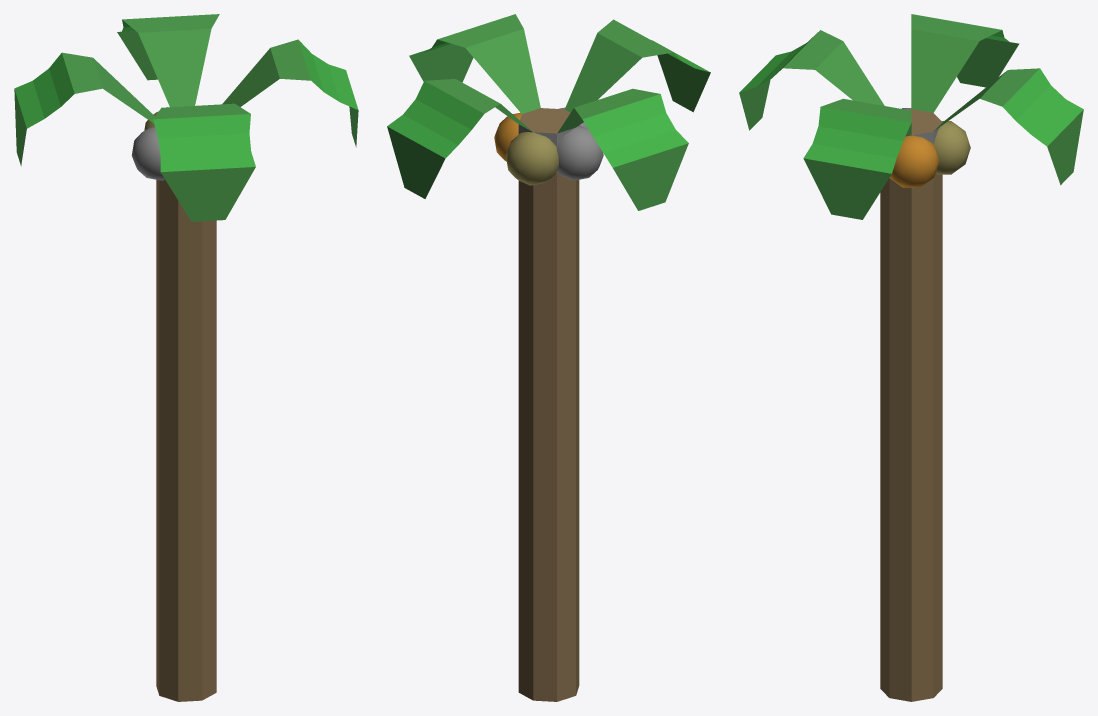
File: Goofn.fbx
3 views of the same model, side by side, from view 1: azimuth 30°, elevation 25°; view 2: azimuth 150°, elevation 25°; view 3: azimuth 270°, elevation 25° (orthographic).
Parts seen in each view (by area): view 1: Plane.005; view 2: Plane.005; view 3: Plane.005.
Boxes of the visible parts, x1,y1,x2,y2 form: Plane.005: (14,14,358,701); Plane.005: (387,14,710,701); Plane.005: (739,14,1083,701).
Size of the model in its own units: 110 by 219 by 110.
